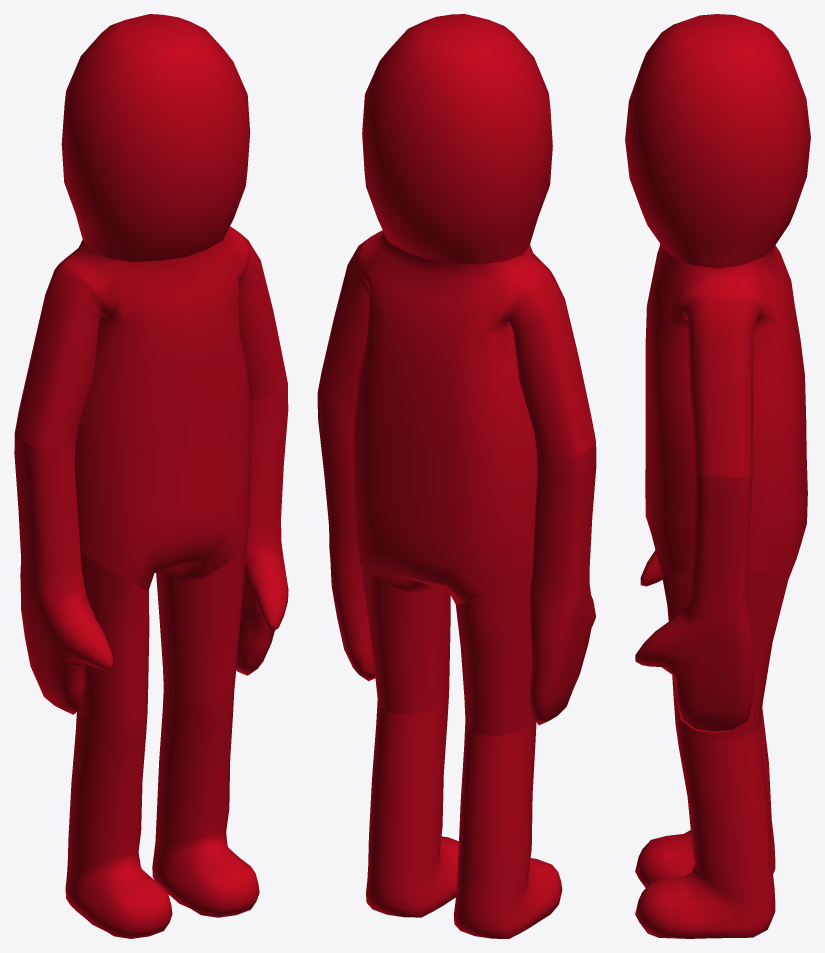
Rendered from Giant.fbx.
3 views of the same model, side by side, from view 1: azimuth 30°, elevation 25°; view 2: azimuth 150°, elevation 25°; view 3: azimuth 270°, elevation 25° (orthographic).
Parts seen in each view (by area): view 1: Giant; view 2: Giant; view 3: Giant.
Boxes of the visible parts, x1,y1,x2,y2 form: Giant: [14, 14, 288, 938]; Giant: [317, 14, 596, 938]; Giant: [625, 14, 810, 938].
Size of the model in its own units: 12.89 by 41.17 by 7.9.
